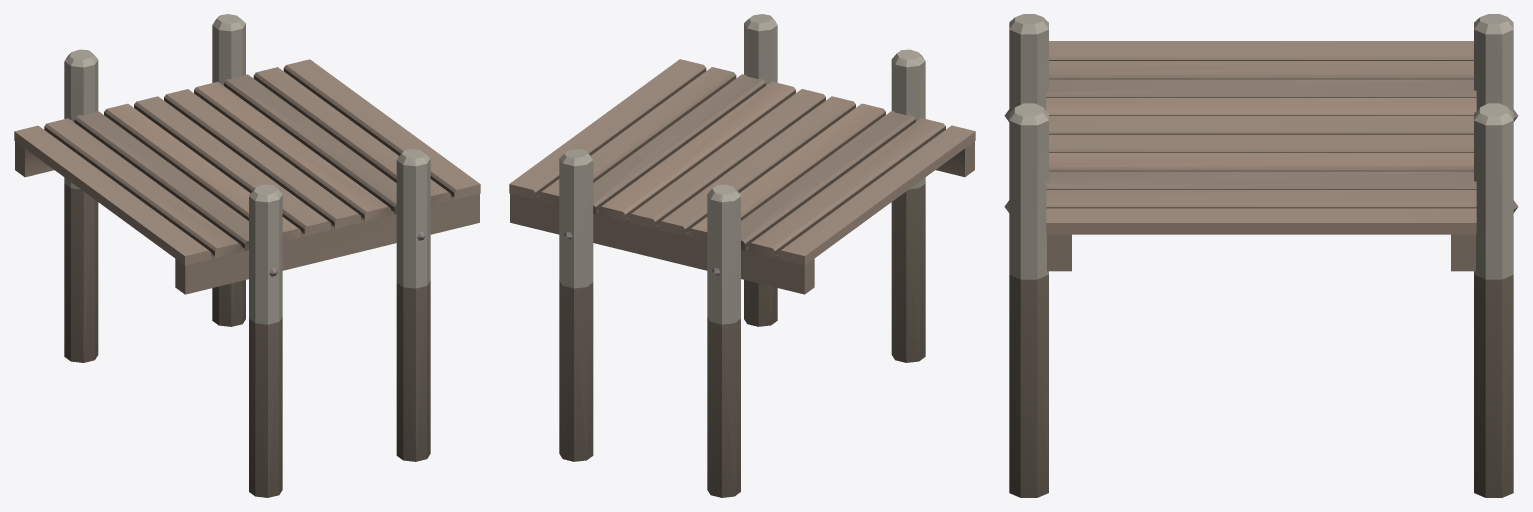
Rendered from pier.glb.
The picture shows the model from 3 angles, left to right: view 1: azimuth 30°, elevation 25°; view 2: azimuth 150°, elevation 25°; view 3: azimuth 270°, elevation 25°; orthographic projection. The views are drawn at different scales.
Parts seen in each view (by area): view 1: pier; view 2: pier; view 3: pier.
Part boxes in pixels (box(x1,y1,x2,y2)): pier: box(14, 14, 480, 497); pier: box(509, 14, 975, 497); pier: box(1004, 14, 1518, 497).
Bounding box in the file's own units: 3 × 2.92 × 3.58.
